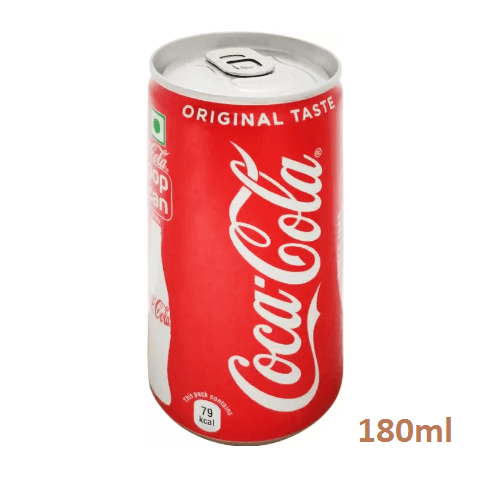coke: (222, 135, 338, 417)
